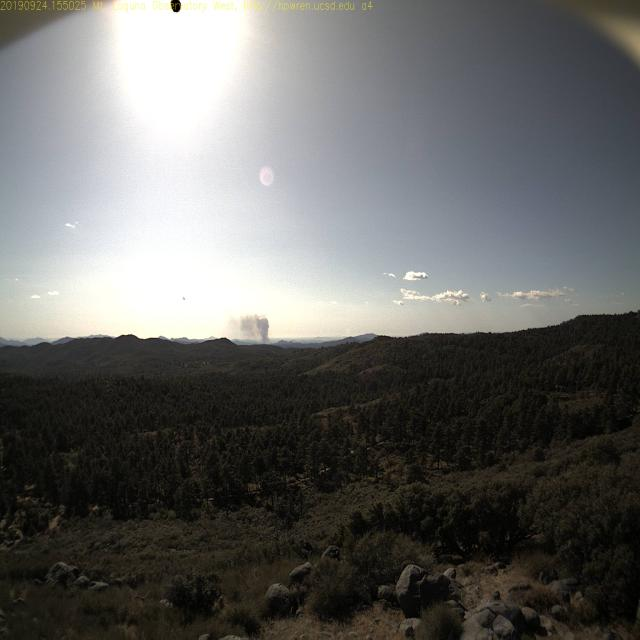smoke: (234, 312, 275, 346)
